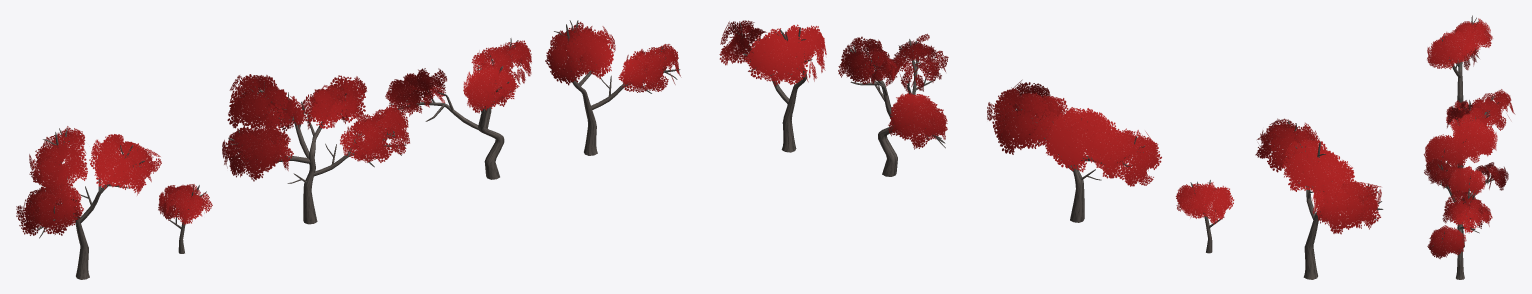
File: Maple Trees.glb
The picture shows the model from 3 angles, left to right: view 1: azimuth 30°, elevation 25°; view 2: azimuth 150°, elevation 25°; view 3: azimuth 270°, elevation 25°; orthographic projection. The views are drawn at different scales.
Parts seen in each view (by area): view 1: MapleTree_3, MapleTree_5, MapleTree_2, MapleTree_1, MapleTree_4; view 2: MapleTree_3, MapleTree_5, MapleTree_2, MapleTree_1, MapleTree_4; view 3: MapleTree_3, MapleTree_1, MapleTree_5, MapleTree_2, MapleTree_4.
Boxes of the visible parts, bbox=[...] form: MapleTree_3: bbox=[222, 74, 409, 224]; MapleTree_5: bbox=[16, 126, 161, 279]; MapleTree_2: bbox=[385, 38, 531, 179]; MapleTree_1: bbox=[545, 20, 681, 155]; MapleTree_4: bbox=[158, 184, 212, 253]; MapleTree_3: bbox=[987, 79, 1161, 222]; MapleTree_5: bbox=[1255, 118, 1383, 279]; MapleTree_2: bbox=[838, 33, 948, 176]; MapleTree_1: bbox=[719, 20, 826, 152]; MapleTree_4: bbox=[1175, 180, 1234, 253]; MapleTree_3: bbox=[1423, 89, 1514, 168]; MapleTree_1: bbox=[1427, 188, 1492, 279]; MapleTree_5: bbox=[1427, 15, 1493, 105]; MapleTree_2: bbox=[1424, 159, 1508, 247]; MapleTree_4: bbox=[1446, 100, 1471, 130].
Bounding box in the file's own units: 34.21 × 7.29 × 6.68.
2 materials, 2 textured.
